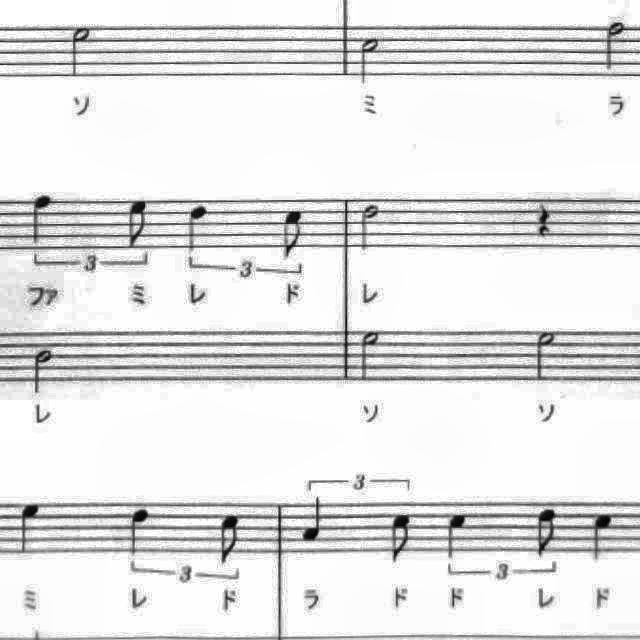Eighth-note: (528, 502, 564, 564), (276, 203, 312, 265), (212, 508, 248, 568), (384, 510, 420, 570), (122, 192, 156, 252)
Half-note: (530, 324, 568, 388), (352, 324, 388, 388), (596, 14, 632, 76), (354, 30, 391, 90), (63, 22, 97, 84), (24, 342, 58, 398), (354, 197, 384, 255)
Quarter-note: (12, 496, 50, 560), (584, 504, 620, 568), (122, 501, 158, 563), (178, 199, 215, 259), (24, 190, 60, 248), (296, 492, 332, 548), (441, 506, 474, 562)
Quarter-rest: (528, 194, 560, 242)
